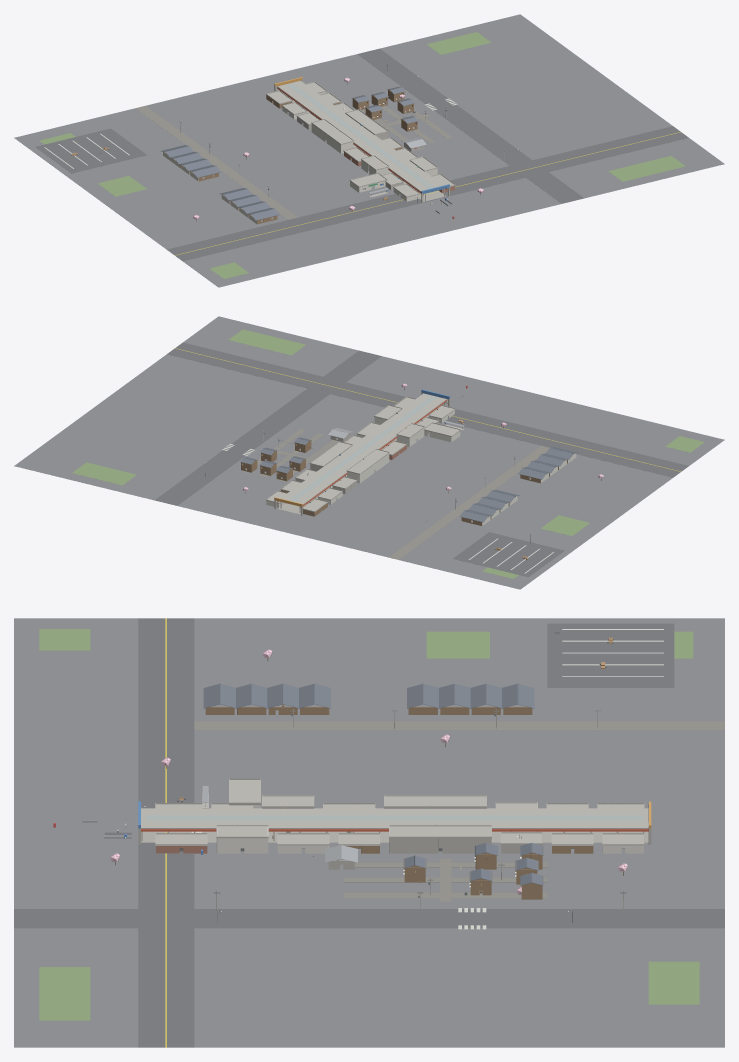
Rendered from zone_2.glb.
3 renders of one model, top to bottom at view 1: azimuth 30°, elevation 25°; view 2: azimuth 150°, elevation 25°; view 3: azimuth 270°, elevation 25°, orthographic. The views are drawn at different scales.
Parts seen in each view (by area): view 1: zone_akitsu_z2; view 2: zone_akitsu_z2; view 3: zone_akitsu_z2.
Part boxes in pixels (x1,y1,x2,y2): zone_akitsu_z2: [14, 14, 724, 287]; zone_akitsu_z2: [14, 316, 724, 589]; zone_akitsu_z2: [14, 618, 724, 1047].
Bounding box in the file's own units: 400 × 12.5 × 280.
